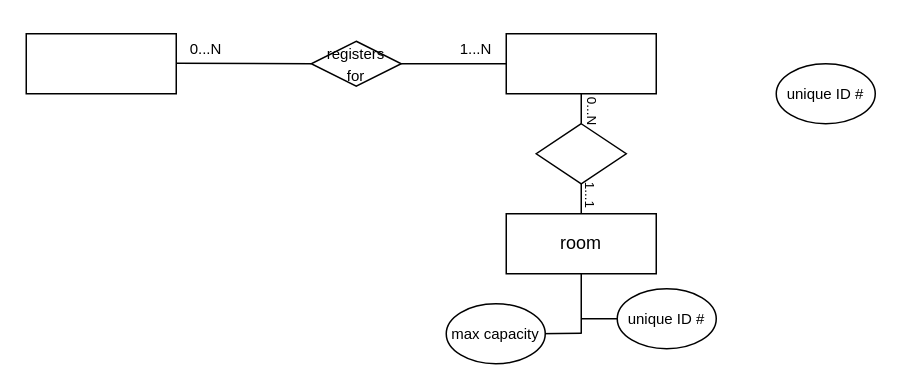
The diagram is 902 pixels wide and 390 high, and some of its shapes have lost their labels. The shapes that lost their labels are listed below. From the top down, each one's centre as x and y in pixels, then its label:
[100,63]: member
[580,63]: session
[580,153]: are held in
